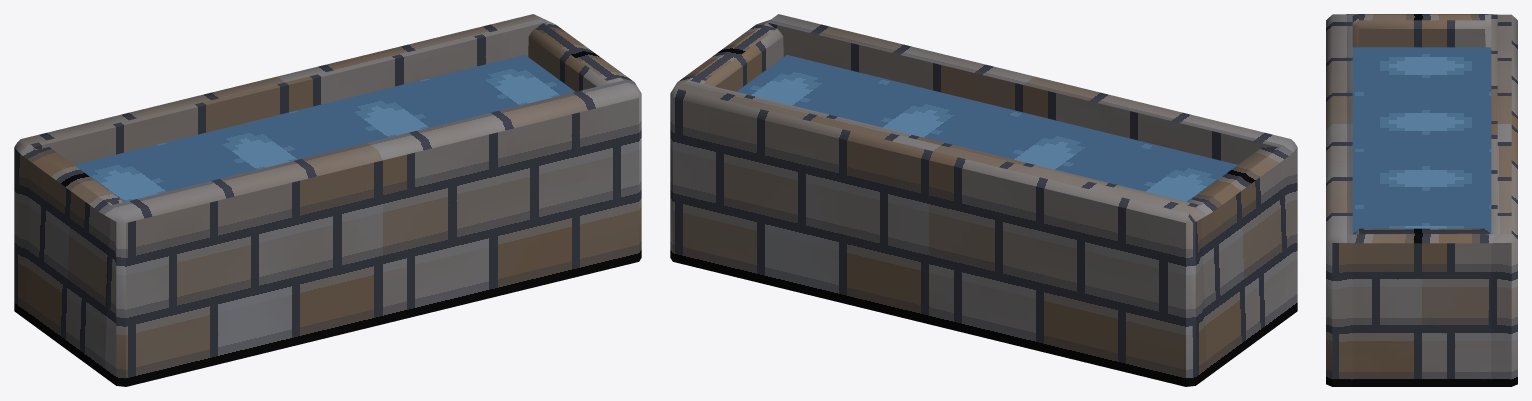
The model's file is water_trough_1.glb.
The picture shows the model from 3 angles, left to right: view 1: azimuth 30°, elevation 25°; view 2: azimuth 150°, elevation 25°; view 3: azimuth 270°, elevation 25°; orthographic projection. The views are drawn at different scales.
Visible parts, largest first — view 1: water_trough_2; view 2: water_trough_2; view 3: water_trough_2.
Part boxes in pixels (x1=…): water_trough_2: x1=14, y1=14, x2=641, y2=386; water_trough_2: x1=670, y1=14, x2=1297, y2=386; water_trough_2: x1=1326, y1=14, x2=1517, y2=386.
Bounding box in the file's own units: 2.03 × 0.62 × 0.72.
Materials: 2 (2 with a texture image).
